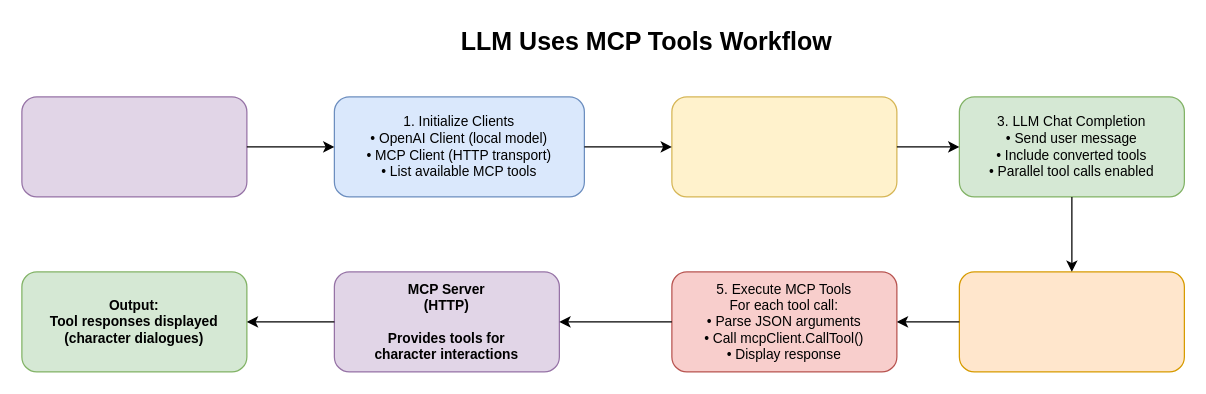
Image size: 1206x394. Some labels were removed from this diagram. The shapes that lost their labels are listed below. From the top down, each one's box as (x1, y1, x2, y2) in pixels, then its label:
(21, 96, 247, 197): User Request: "I want to speak to an elf about magic and a dwarf"
(671, 96, 897, 197): 2. Convert MCP Tools to OpenAI Format ConvertMCPToolsToOpenAITools()
(958, 271, 1184, 372): 4. Extract Tool Calls from LLM Response Parse function names & args
